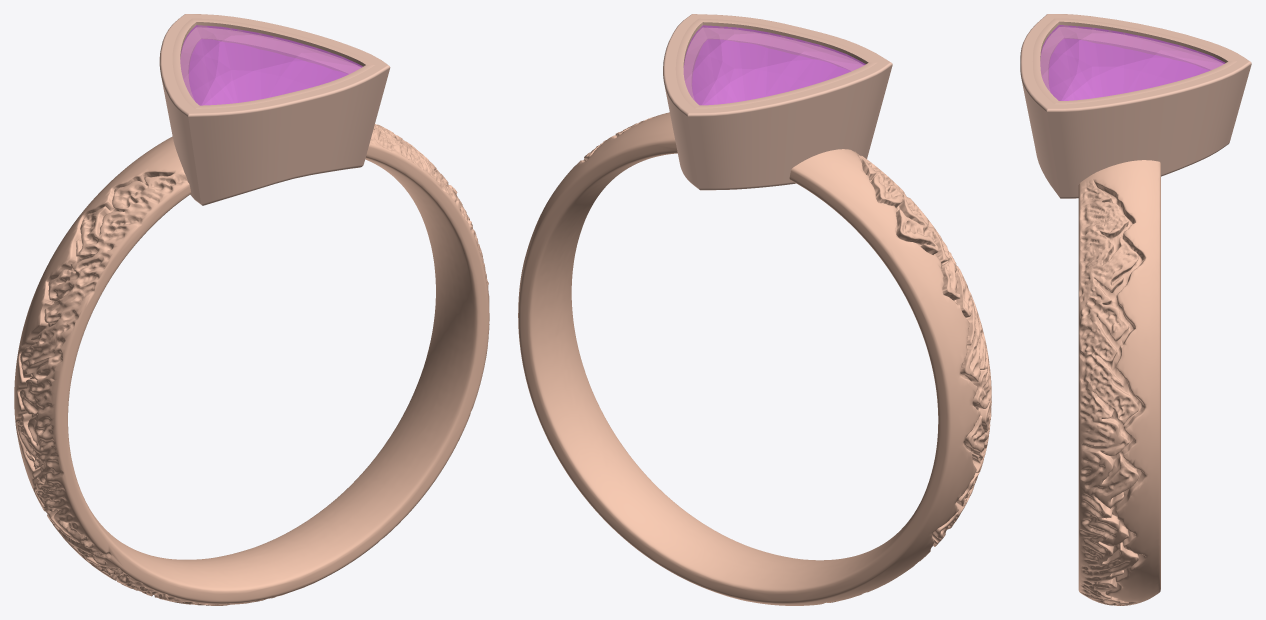
The model's file is ring_10db7ee3.glb.
3 renders of one model, left to right at view 1: azimuth 30°, elevation 25°; view 2: azimuth 150°, elevation 25°; view 3: azimuth 270°, elevation 25°, orthographic. The views are drawn at different scales.
Visible parts, largest first — view 1: Object_1_/Yellow Gold-8508952d-1574-41b6-8512-d7f9eb00d480_0, Object_3_/Yellow Gold-8508952d-1574-41b6-8512-d7f9eb00d480_2, Diamond_Trillion Curved; view 2: Object_1_/Yellow Gold-8508952d-1574-41b6-8512-d7f9eb00d480_0, Object_3_/Yellow Gold-8508952d-1574-41b6-8512-d7f9eb00d480_2, Diamond_Trillion Curved; view 3: Object_1_/Yellow Gold-8508952d-1574-41b6-8512-d7f9eb00d480_0, Object_3_/Yellow Gold-8508952d-1574-41b6-8512-d7f9eb00d480_2, Diamond_Trillion Curved.
Boxes of the visible parts, x1,y1,x2,y2 form: Object_1_/Yellow Gold-8508952d-1574-41b6-8512-d7f9eb00d480_0: (14, 124, 489, 605); Object_3_/Yellow Gold-8508952d-1574-41b6-8512-d7f9eb00d480_2: (159, 14, 390, 205); Diamond_Trillion Curved: (180, 25, 363, 105); Object_1_/Yellow Gold-8508952d-1574-41b6-8512-d7f9eb00d480_0: (518, 112, 991, 605); Object_3_/Yellow Gold-8508952d-1574-41b6-8512-d7f9eb00d480_2: (663, 14, 892, 190); Diamond_Trillion Curved: (683, 25, 865, 105); Object_1_/Yellow Gold-8508952d-1574-41b6-8512-d7f9eb00d480_0: (1078, 160, 1160, 605); Object_3_/Yellow Gold-8508952d-1574-41b6-8512-d7f9eb00d480_2: (1020, 14, 1251, 198); Diamond_Trillion Curved: (1040, 25, 1225, 100).
Size of the model in its own units: 0.022 by 0.025 by 0.00985.
